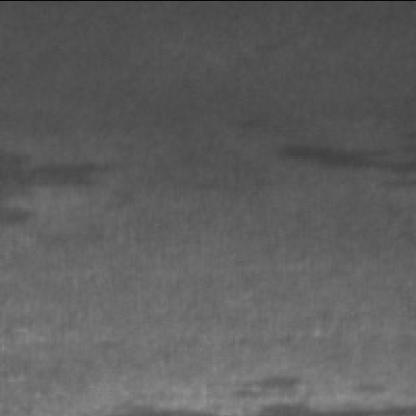inclusion: (262, 125, 416, 195), (4, 146, 129, 212), (212, 358, 316, 414)
